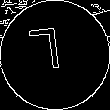L_S: (37, 28, 73, 82)
